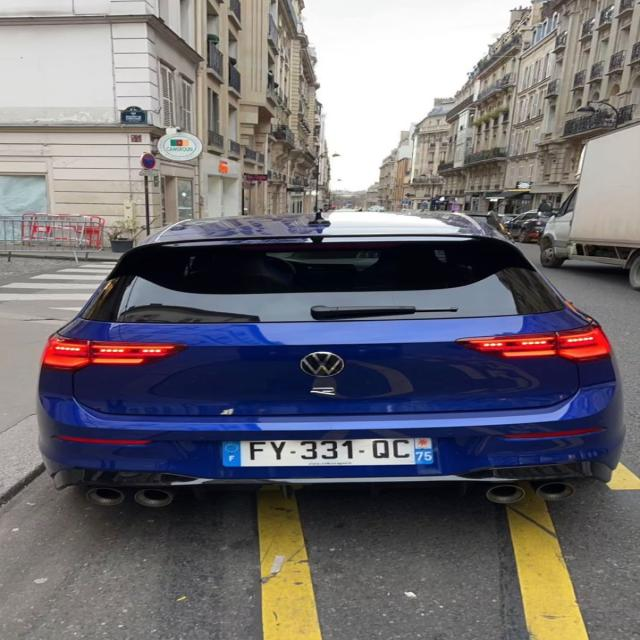Placas: (206, 428, 452, 474)
